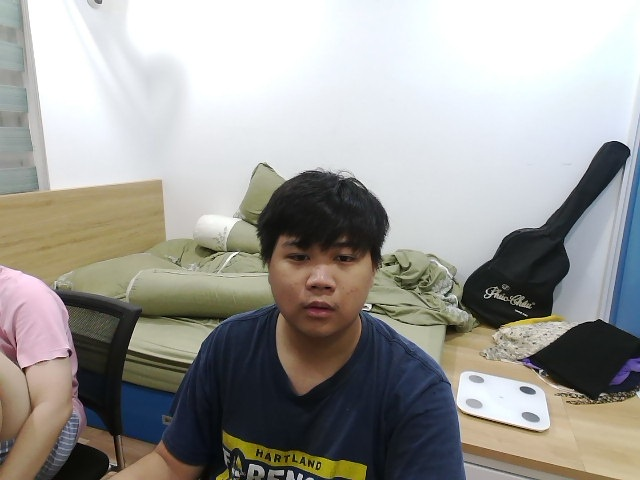face: (255, 170, 390, 338)
